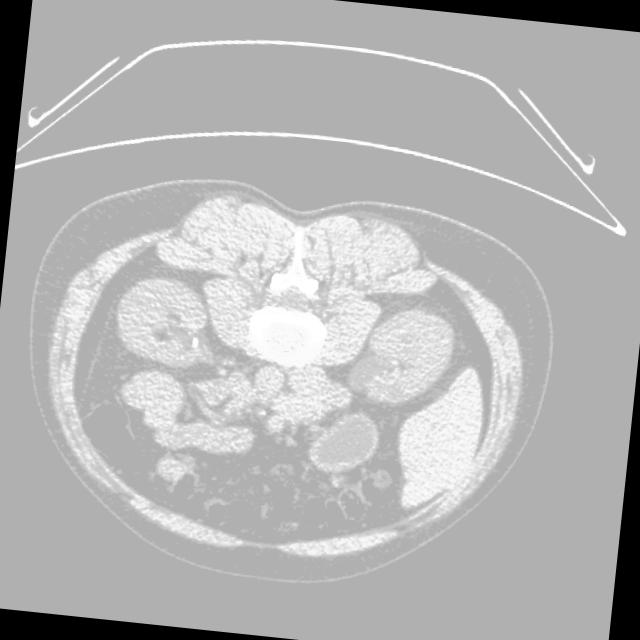STONE: (97, 353, 423, 553)
